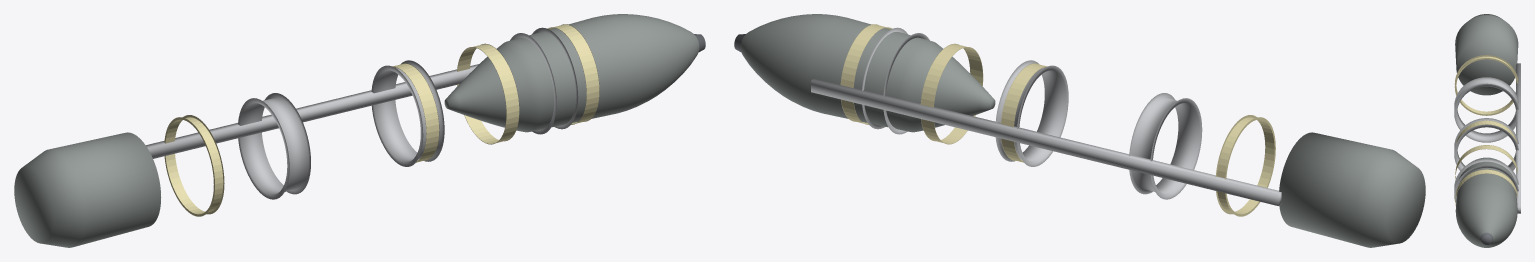
The model's file is RU_SLBM_R29RMU2_Sineva_LOD0.fbx.
3 views of the same model, side by side, from view 1: azimuth 30°, elevation 25°; view 2: azimuth 150°, elevation 25°; view 3: azimuth 270°, elevation 25° (orthographic). The views are drawn at different scales.
Visible parts, largest first — view 1: WPN_RU_SLBM_R29RMU2_Sineva_LOD0_Body, WPN_RU_SLBM_R29RMU2_Sineva_LOD0_Tail, WPN_RU_SLBM_R29RMU2_Sineva_LOD0_Detail, WPN_RU_SLBM_R29RMU2_Sineva_LOD0_Marking; view 2: WPN_RU_SLBM_R29RMU2_Sineva_LOD0_Detail, WPN_RU_SLBM_R29RMU2_Sineva_LOD0_Body, WPN_RU_SLBM_R29RMU2_Sineva_LOD0_Tail, WPN_RU_SLBM_R29RMU2_Sineva_LOD0_Marking; view 3: WPN_RU_SLBM_R29RMU2_Sineva_LOD0_Body, WPN_RU_SLBM_R29RMU2_Sineva_LOD0_Tail, WPN_RU_SLBM_R29RMU2_Sineva_LOD0_Detail, WPN_RU_SLBM_R29RMU2_Sineva_LOD0_Marking, WPN_RU_SLBM_R29RMU2_Sineva_LOD0_Nose.
Part boxes in pixels (x1=…): WPN_RU_SLBM_R29RMU2_Sineva_LOD0_Body: x1=444, y1=14, x2=699, y2=132; WPN_RU_SLBM_R29RMU2_Sineva_LOD0_Tail: x1=14, y1=132, x2=161, y2=247; WPN_RU_SLBM_R29RMU2_Sineva_LOD0_Detail: x1=146, y1=27, x2=578, y2=199; WPN_RU_SLBM_R29RMU2_Sineva_LOD0_Marking: x1=164, y1=24, x2=599, y2=216; WPN_RU_SLBM_R29RMU2_Sineva_LOD0_Detail: x1=811, y1=27, x2=1281, y2=205; WPN_RU_SLBM_R29RMU2_Sineva_LOD0_Body: x1=740, y1=14, x2=995, y2=132; WPN_RU_SLBM_R29RMU2_Sineva_LOD0_Tail: x1=1279, y1=132, x2=1425, y2=247; WPN_RU_SLBM_R29RMU2_Sineva_LOD0_Marking: x1=840, y1=24, x2=1275, y2=216; WPN_RU_SLBM_R29RMU2_Sineva_LOD0_Body: x1=1455, y1=157, x2=1517, y2=247; WPN_RU_SLBM_R29RMU2_Sineva_LOD0_Tail: x1=1455, y1=14, x2=1518, y2=95; WPN_RU_SLBM_R29RMU2_Sineva_LOD0_Detail: x1=1454, y1=63, x2=1520, y2=213; WPN_RU_SLBM_R29RMU2_Sineva_LOD0_Marking: x1=1454, y1=55, x2=1518, y2=205; WPN_RU_SLBM_R29RMU2_Sineva_LOD0_Nose: x1=1480, y1=232, x2=1492, y2=244.
Size of the model in its own units: 14.8 by 2.04 by 2.
